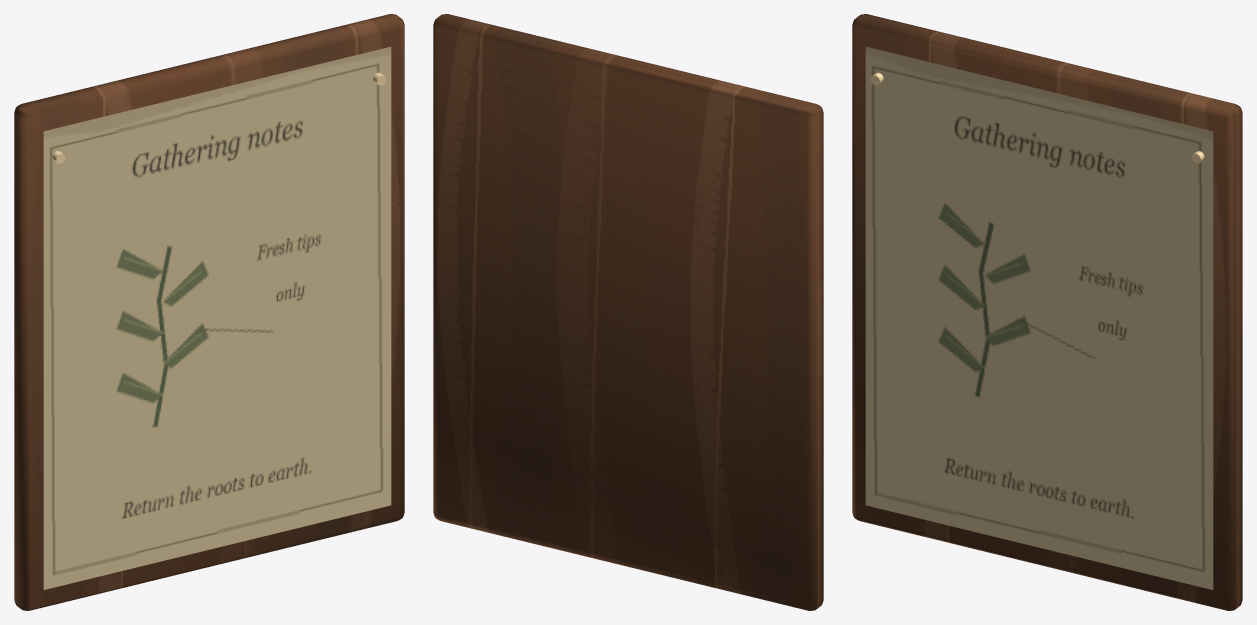
File: CM_HR02_HerbariumBoard.fbx
3 renders of one model, left to right at view 1: azimuth 30°, elevation 25°; view 2: azimuth 150°, elevation 25°; view 3: azimuth 330°, elevation 25°, orthographic.
Visible parts, largest first — view 1: CM_HR02_HerbariumBoard; view 2: CM_HR02_HerbariumBoard; view 3: CM_HR02_HerbariumBoard.
Part boxes in pixels (box(x1,y1,x2,y2)): CM_HR02_HerbariumBoard: box(14, 14, 404, 610); CM_HR02_HerbariumBoard: box(433, 14, 823, 610); CM_HR02_HerbariumBoard: box(852, 14, 1242, 610).
Bounding box in the file's own units: 0.72 × 0.9 × 0.058.
